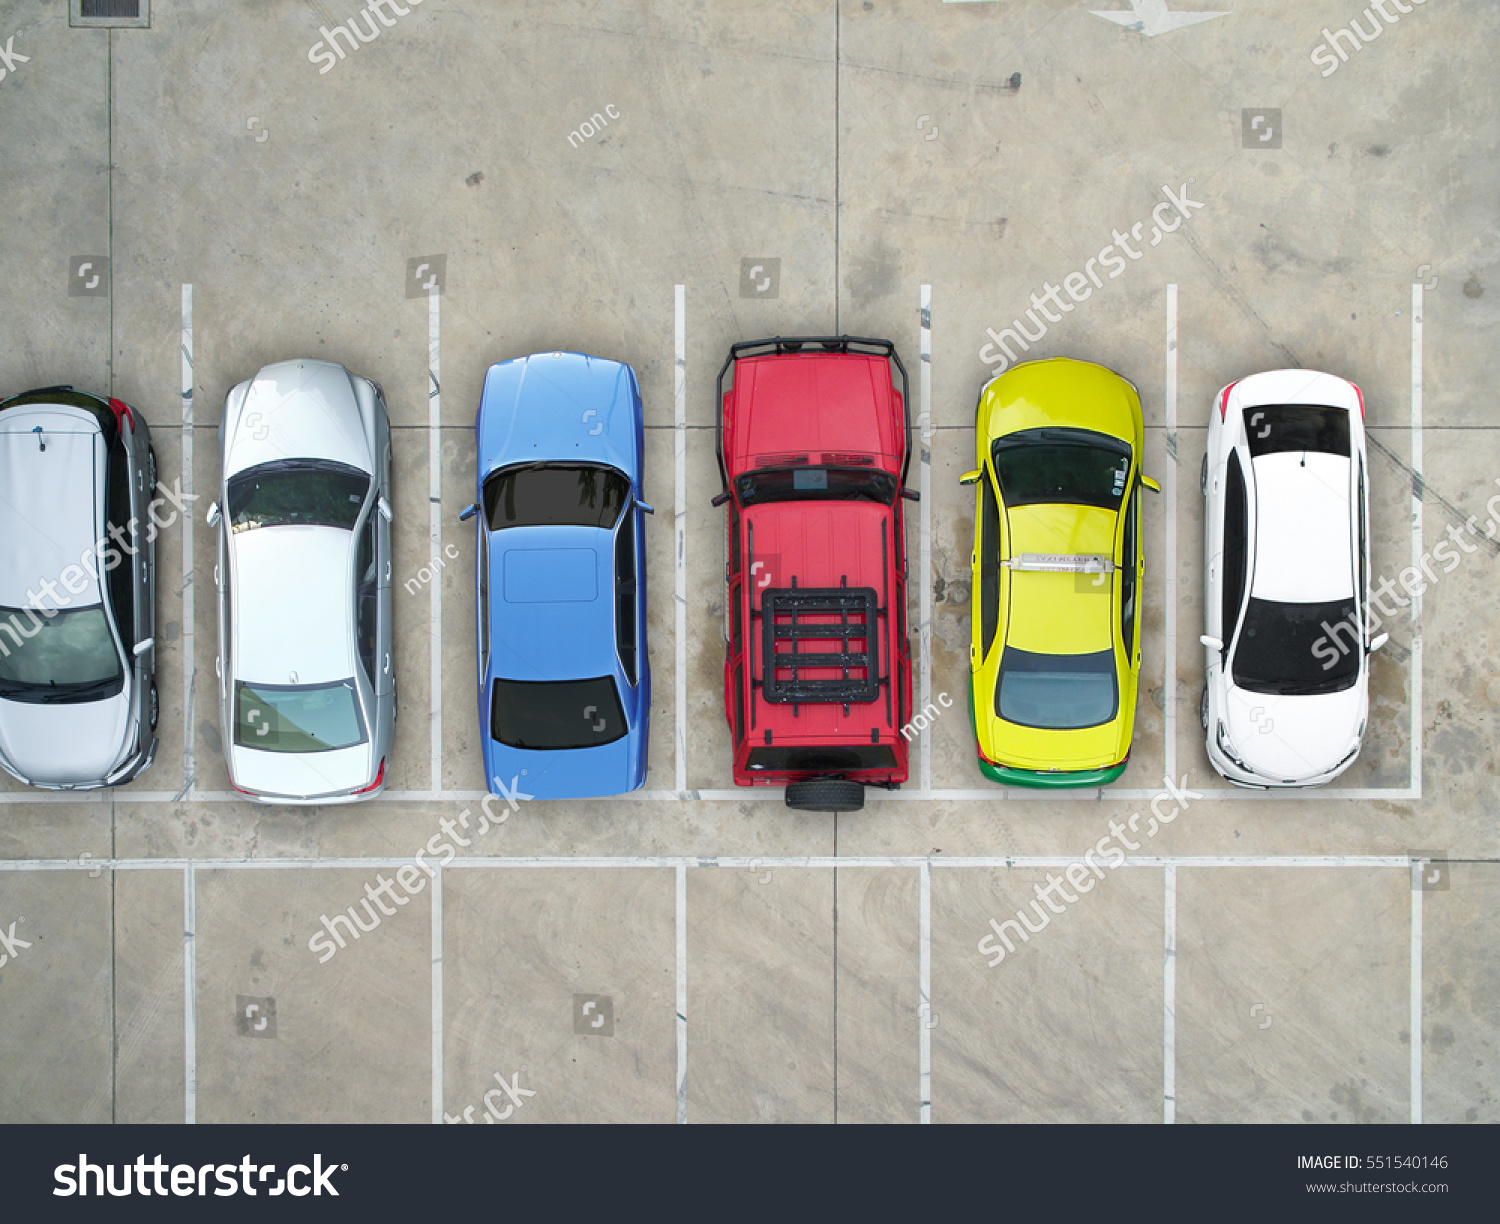Car: (713, 322, 919, 818), (213, 355, 402, 816), (470, 347, 654, 806), (961, 353, 1150, 794), (1194, 364, 1383, 795), (1, 379, 168, 799)
LaneMark: (880, 779, 1426, 805), (1159, 279, 1181, 787), (4, 860, 1441, 868), (1407, 279, 1428, 784), (917, 279, 934, 782), (183, 275, 198, 791), (672, 270, 686, 782), (429, 277, 441, 791), (424, 869, 449, 1112), (672, 864, 689, 1165), (181, 855, 198, 1121), (1165, 860, 1181, 1136), (914, 863, 929, 1131), (1, 790, 217, 805), (1412, 860, 1422, 1147), (639, 788, 776, 806), (380, 784, 478, 799)
